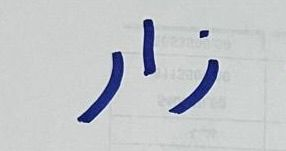alef: (135, 15, 161, 85)
reh: (62, 45, 129, 128)
zain: (167, 25, 221, 119)
